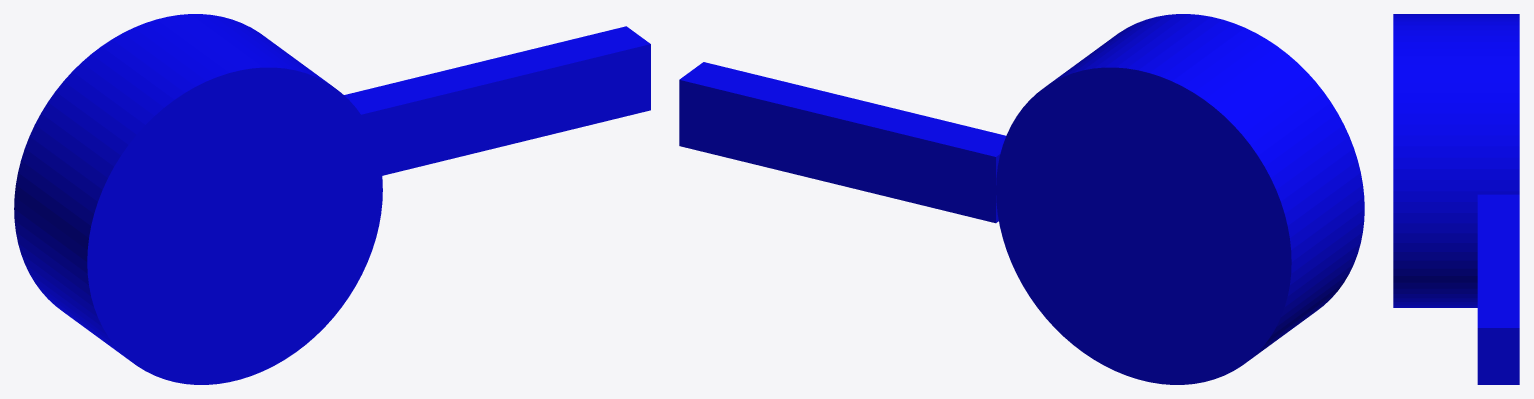
Rendered from rightsupport.dae.
3 views of the same model, side by side, from view 1: azimuth 30°, elevation 25°; view 2: azimuth 150°, elevation 25°; view 3: azimuth 270°, elevation 25° (orthographic). The views are drawn at different scales.
Parts seen in each view (by area): view 1: node; view 2: node; view 3: node.
Boxes of the visible parts, x1=… form: node: x1=14, y1=14, x2=650, y2=384; node: x1=679, y1=14, x2=1364, y2=384; node: x1=1393, y1=14, x2=1519, y2=384.
Bounding box in the file's own units: 0.058 × 0.028 × 0.012.
Materials: 1 (1 with a texture image).
